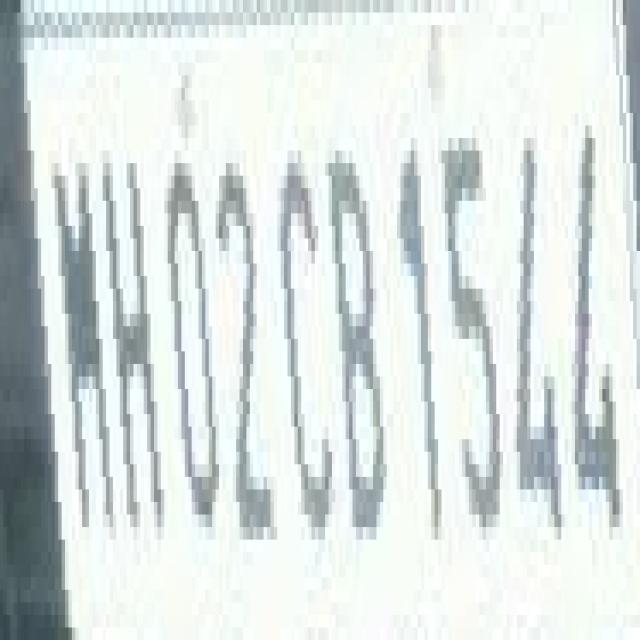license_plate: (13, 0, 640, 627)
